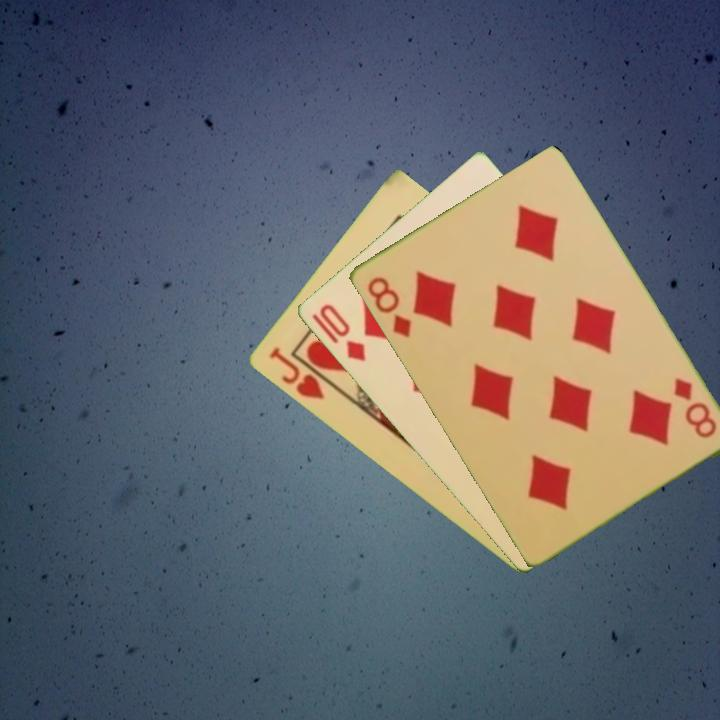10d: (308, 300, 369, 365)
8d: (363, 273, 414, 341), (669, 373, 719, 441)
Jh: (264, 343, 327, 403)
